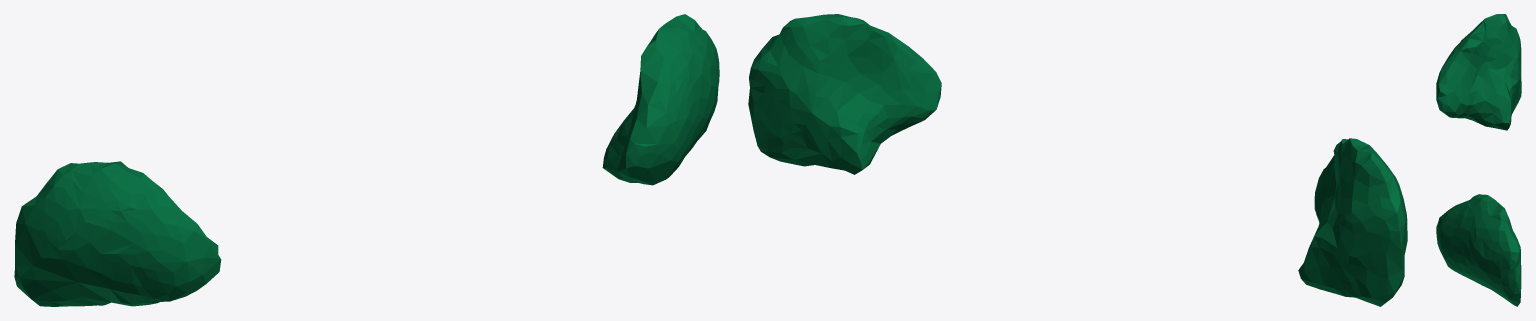
The model's file is 100-47(12)-area 47 (old 12) of cortex-('0.0000', '0.4980', '0.2863').obj.
3 renders of one model, left to right at view 1: azimuth 30°, elevation 25°; view 2: azimuth 150°, elevation 25°; view 3: azimuth 270°, elevation 25°, orthographic. The views are drawn at different scales.
Size of the model in its own units: 222 by 46.61 by 36.37.
